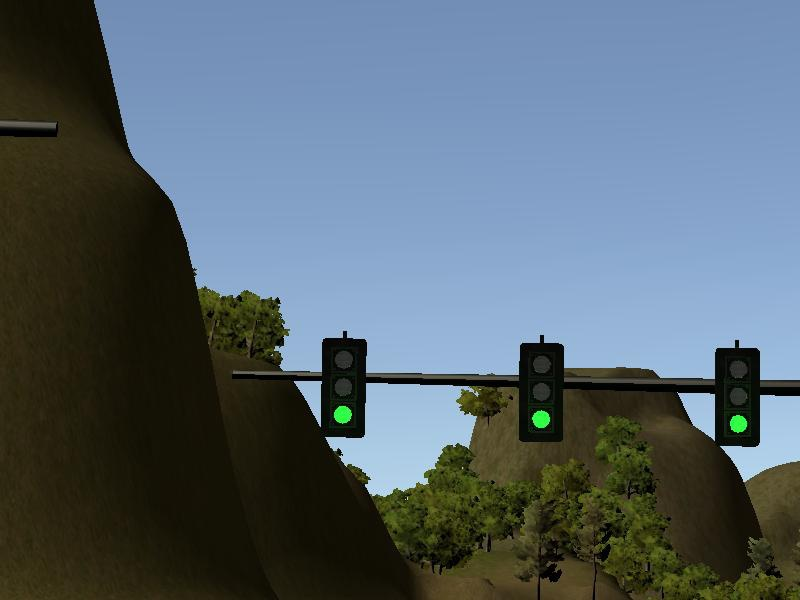Green: (715, 349, 760, 446), (323, 338, 365, 437), (521, 343, 561, 441)
